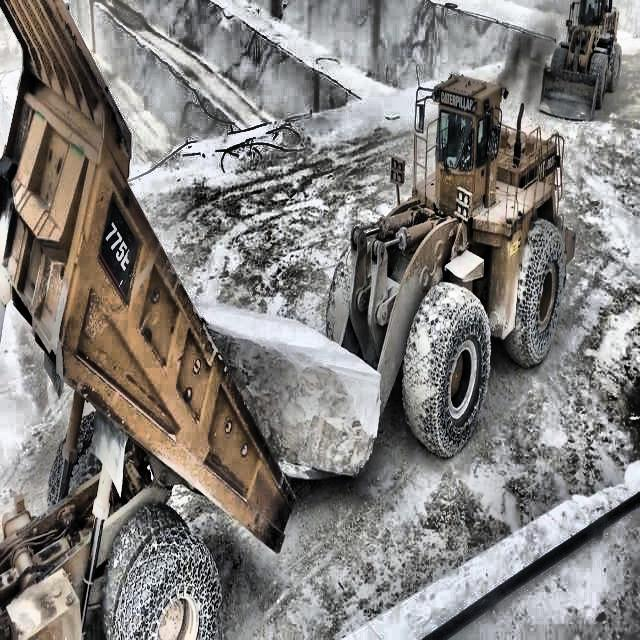bull_dozer/loader/grader: (325, 74, 573, 457), (540, 0, 620, 120)
dump_truck: (0, 0, 296, 637)
